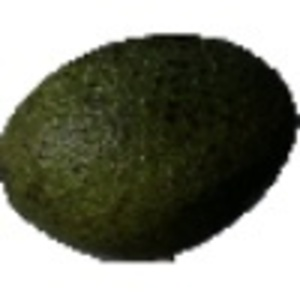abacate: (5, 34, 294, 262)
